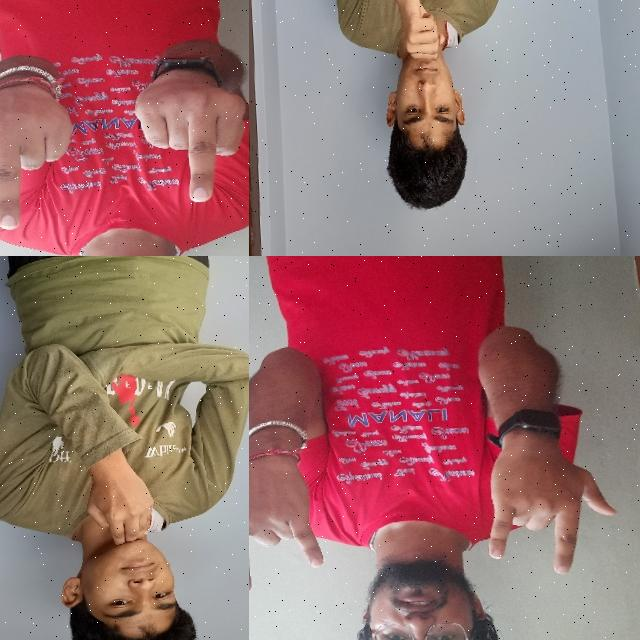Chin Flick: (42, 433, 207, 640)
Corna: (470, 426, 624, 583), (249, 446, 337, 605)
Fist Mouth: (362, 0, 482, 210)
Middle Finger: (127, 59, 249, 216), (0, 66, 84, 237)
